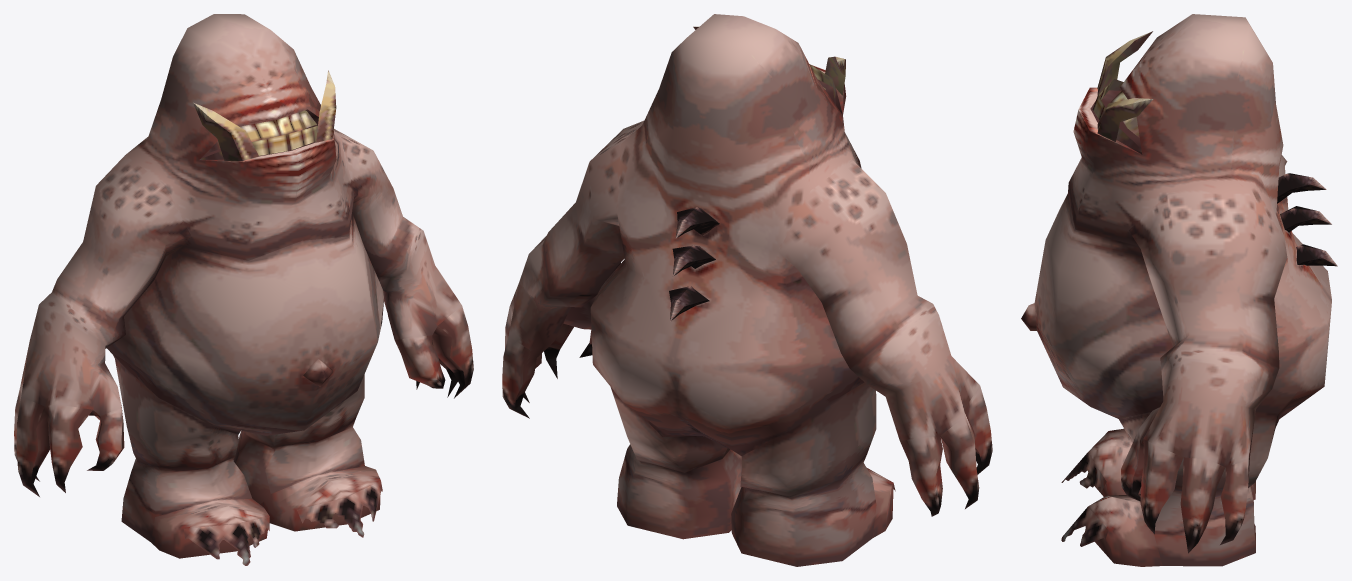
The model's file is trog_lesser_8d838e7b.glb.
The picture shows the model from 3 angles, left to right: view 1: azimuth 30°, elevation 25°; view 2: azimuth 150°, elevation 25°; view 3: azimuth 270°, elevation 25°; orthographic projection. The views are drawn at different scales.
Size of the model in its own units: 1.36 by 1.4 by 0.8181.
Materials: 1 (1 with a texture image).
